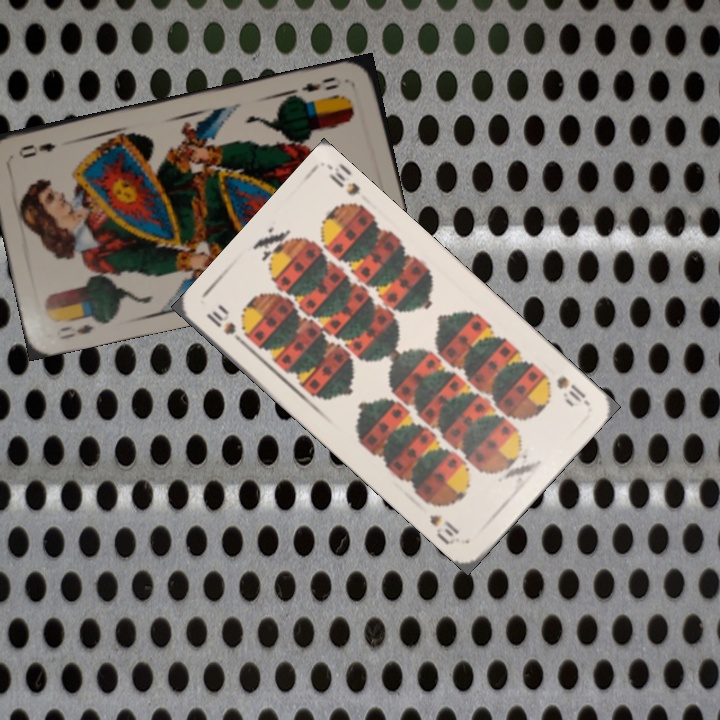EO: (297, 72, 344, 95), (55, 320, 96, 342)
S10: (202, 302, 250, 350), (552, 372, 590, 408)
